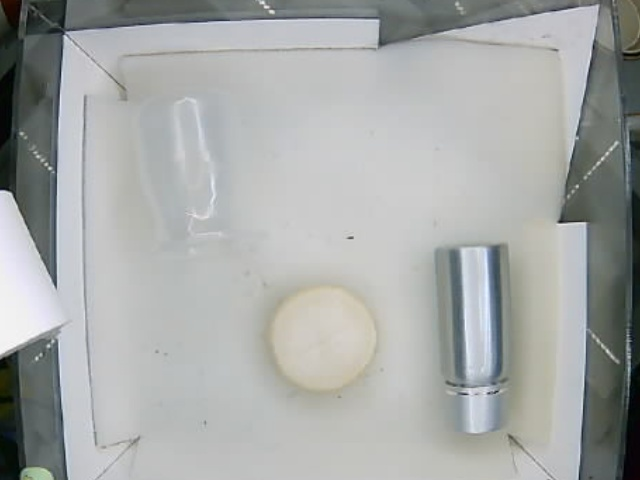Bottle: (131, 95, 235, 253), (436, 243, 512, 433)
Mooli: (267, 290, 383, 394)
